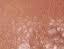plaque psoriasis: (0, 16, 64, 49)
